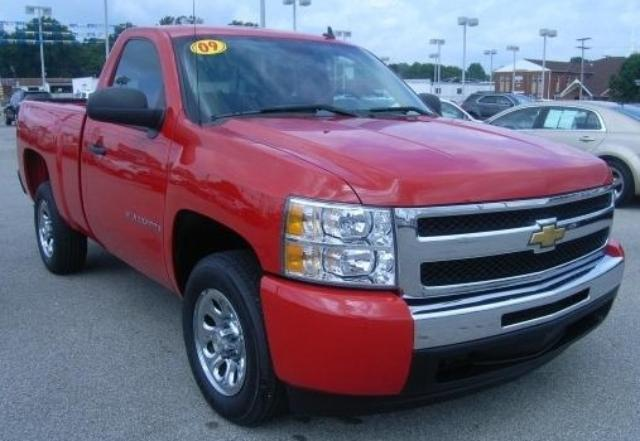pickup-truck: (14, 25, 625, 429)
